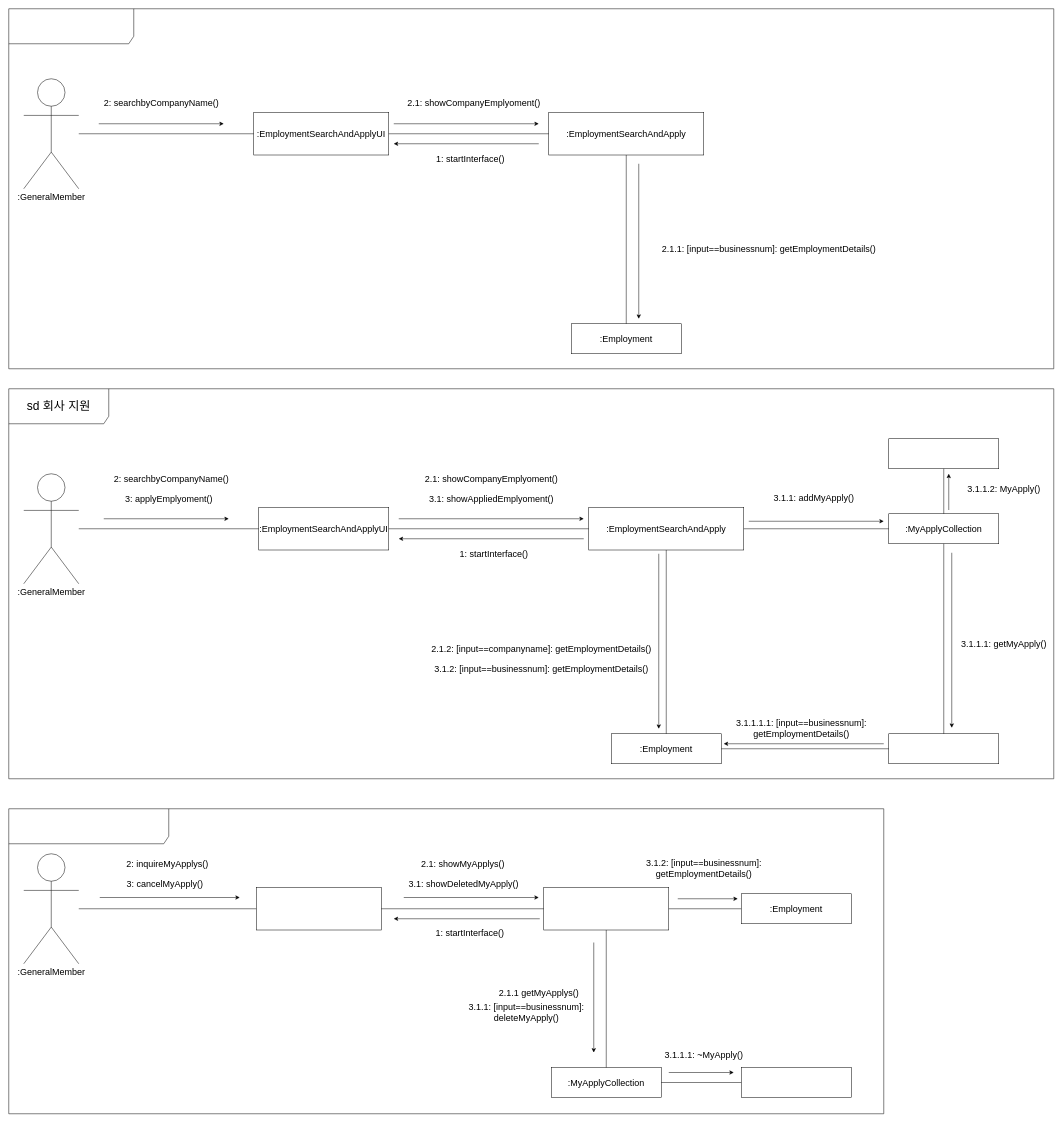
This 1063x1123 diagram has some shape labels left out. The box of each missing label's shape, as (x1, y1, x2, y2) in pixels:
:ApplyInquiryAndCancel: (543, 887, 669, 930)
:ApplyInquiryandCancelUI: (256, 887, 381, 930)
:MyApply: (888, 733, 999, 764)
:newApplyMyApply: (888, 438, 999, 469)
deleteApply:MyApply: (741, 1067, 851, 1098)
sd 지원 정보 조회 및 취소: (8, 808, 884, 1114)
sd 채용 정보 검색: (8, 8, 1054, 369)
